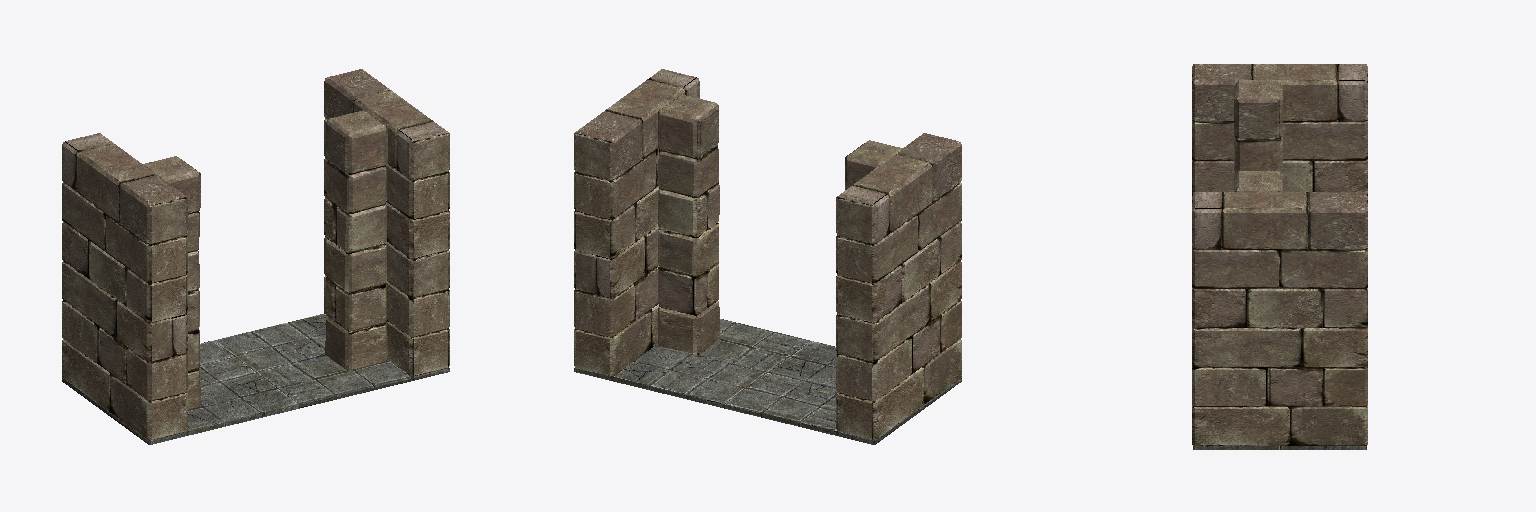
The picture shows the model from 3 angles: view 1: azimuth 30°, elevation 25°; view 2: azimuth 150°, elevation 25°; view 3: azimuth 270°, elevation 25°; orthographic projection.
Visible parts, largest first — view 1: Box3456, Box3455, Box4114, Box026, Box0020, Box4132; view 2: Box3456, Box3455, Box4114, Box026, Box0020, Box4132; view 3: Box3455, Box3456, Box4132, Box4114, Box026.
Part boxes in pixels (x1,y1,x2,y2): Box3456: (62,133,187,440); Box3455: (324,69,449,376); Box4114: (325,110,387,371); Box026: (214,313,449,407); Box0020: (62,341,299,444); Box4132: (142,156,200,410); Box3456: (836,133,961,440); Box3455: (574,69,699,376); Box4114: (658,95,720,354); Box026: (574,319,809,407); Box0020: (724,341,961,444); Box4132: (845,140,902,189); Box3455: (1192,192,1367,445); Box3456: (1192,64,1367,193); Box4132: (1233,80,1282,175); Box4114: (1234,171,1282,191); Box026: (1193,446,1366,449).
Size of the model in its own units: 4.04 by 3.08 by 2.04.
Materials: 2 (2 with a texture image).